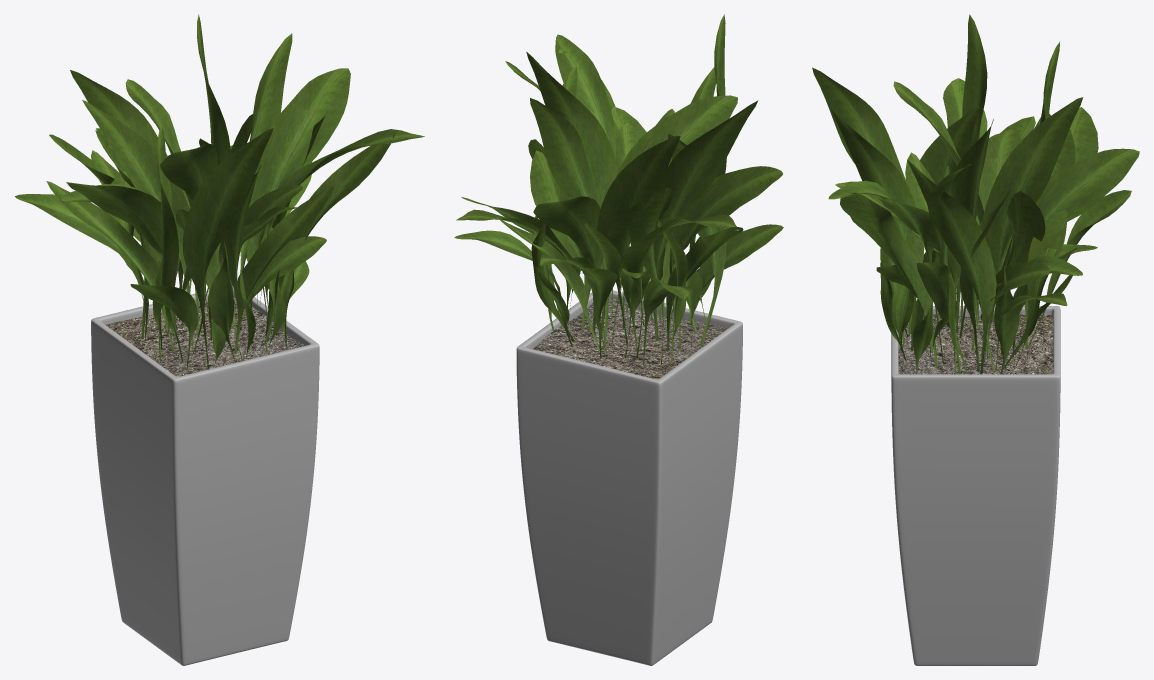
The model's file is pianta_dx.glb.
3 views of the same model, side by side, from view 1: azimuth 30°, elevation 25°; view 2: azimuth 150°, elevation 25°; view 3: azimuth 270°, elevation 25° (orthographic).
Visible parts, largest first — view 1: Pianta_dx; view 2: Pianta_dx; view 3: Pianta_dx.
Boxes of the visible parts, left/top/right/bottom form: Pianta_dx: left=15, top=14, right=424, bottom=665; Pianta_dx: left=454, top=14, right=783, bottom=665; Pianta_dx: left=812, top=14, right=1139, bottom=665.
Size of the model in its own units: 0.7321 by 1.36 by 0.7095.
Materials: 3 (2 with a texture image).
